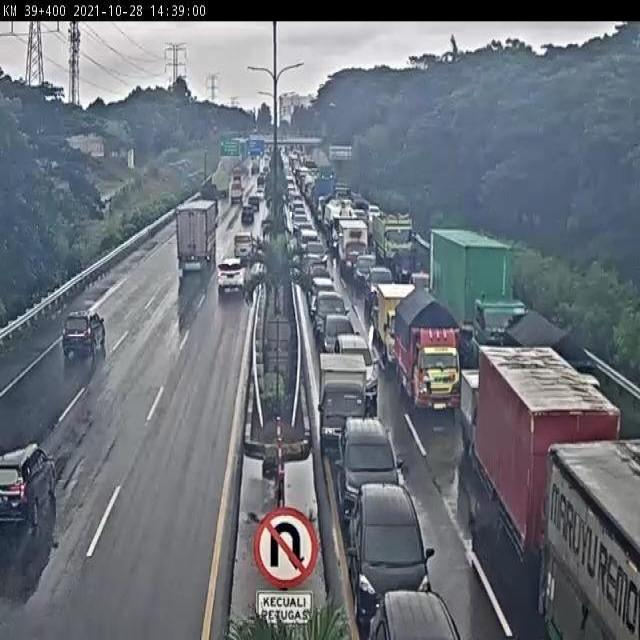ARABA: (347, 481, 438, 624), (337, 419, 406, 528), (363, 574, 459, 640), (0, 446, 56, 526), (373, 205, 418, 276), (62, 308, 108, 357), (322, 312, 359, 368), (311, 292, 350, 345), (366, 266, 395, 314), (308, 276, 338, 319), (218, 254, 247, 294), (304, 242, 328, 274), (355, 255, 377, 288), (234, 231, 254, 257), (241, 203, 256, 224)
KAMYONET: (499, 308, 596, 452), (394, 281, 464, 415), (316, 353, 373, 460), (376, 286, 422, 370), (337, 219, 370, 277), (199, 180, 219, 212)
TIR: (477, 345, 621, 620), (427, 227, 524, 385), (173, 200, 217, 277)
